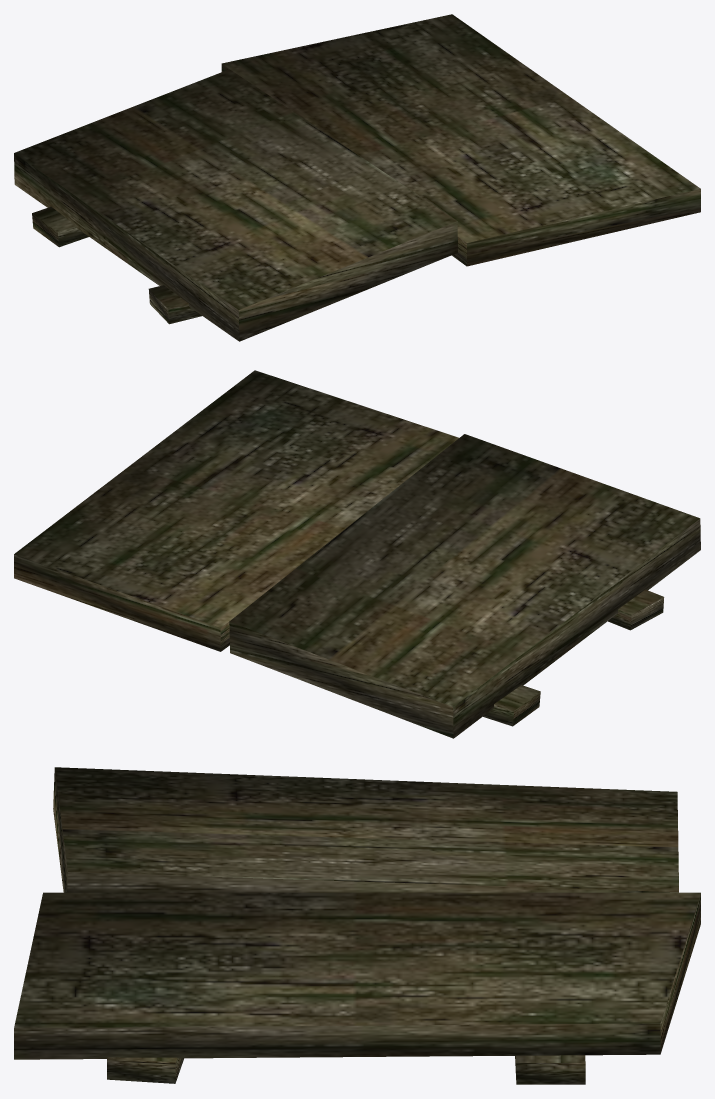
File: OW_LOB_WOODPLANKS_V1.glb
The picture shows the model from 3 angles, top to bottom: view 1: azimuth 30°, elevation 25°; view 2: azimuth 150°, elevation 25°; view 3: azimuth 270°, elevation 25°; orthographic projection. The views are drawn at different scales.
Visible parts, largest first — view 1: Mesh; view 2: Mesh; view 3: Mesh.
Boxes of the visible parts, box(x1,y1,x2,y2) form: Mesh: box(14, 14, 700, 341); Mesh: box(14, 370, 700, 738); Mesh: box(14, 767, 700, 1084).
Size of the model in its own units: 3.18 by 0.5645 by 2.98.
Materials: 1 (1 with a texture image).
